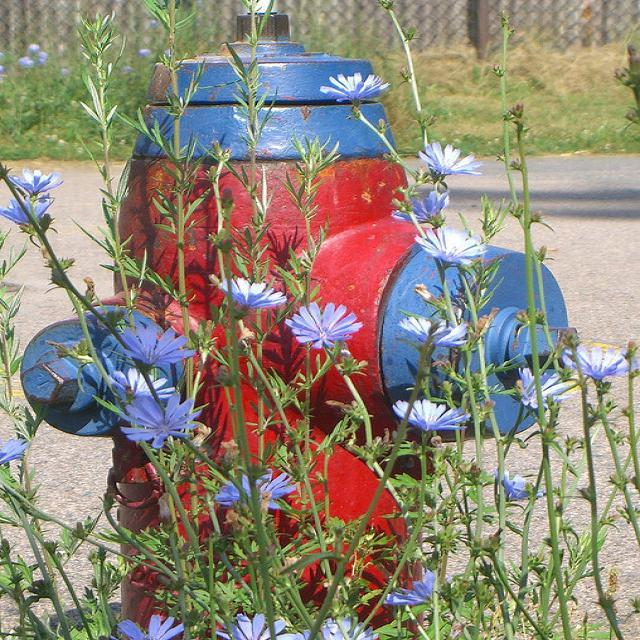fire_hydrant: (19, 9, 587, 637)
